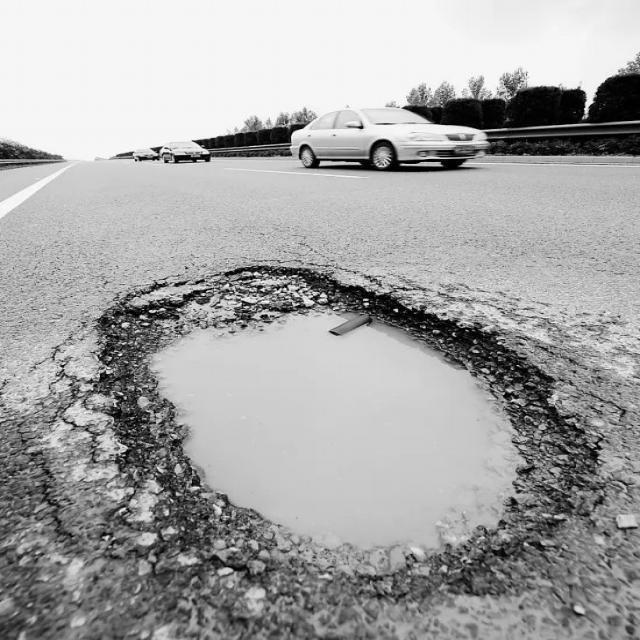pothole: (97, 267, 599, 599)
